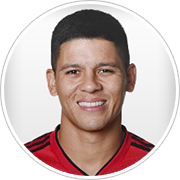face: (44, 38, 139, 133)
